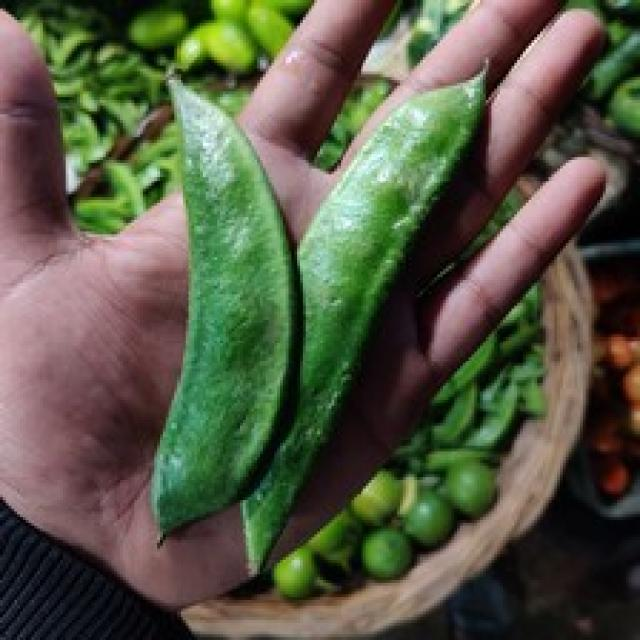Bean: (248, 68, 426, 500), (157, 70, 290, 514)
